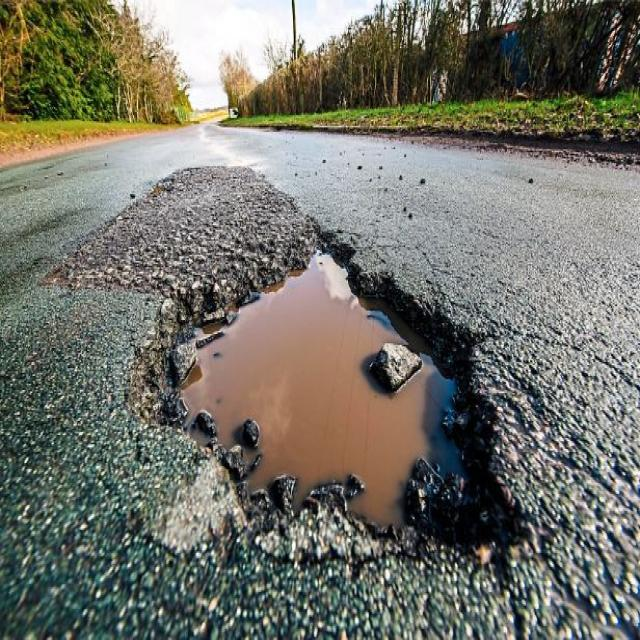pothole: (133, 219, 544, 564)
